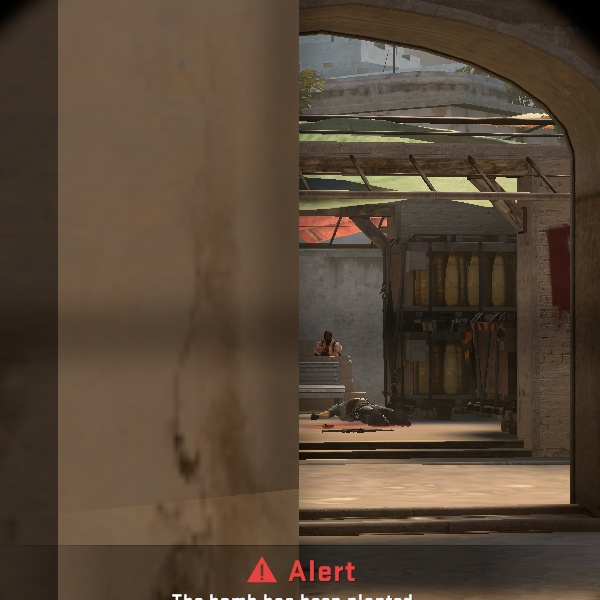t_body: (312, 328, 344, 358)
